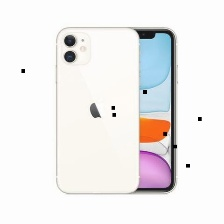phone: (88, 23, 180, 197), (53, 24, 141, 194)
